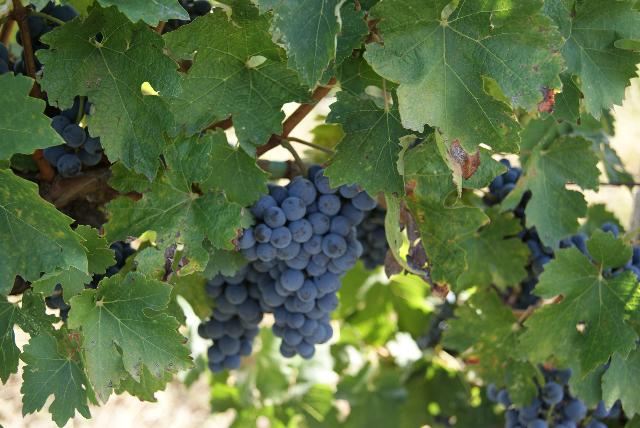grapes: (226, 165, 378, 359)
